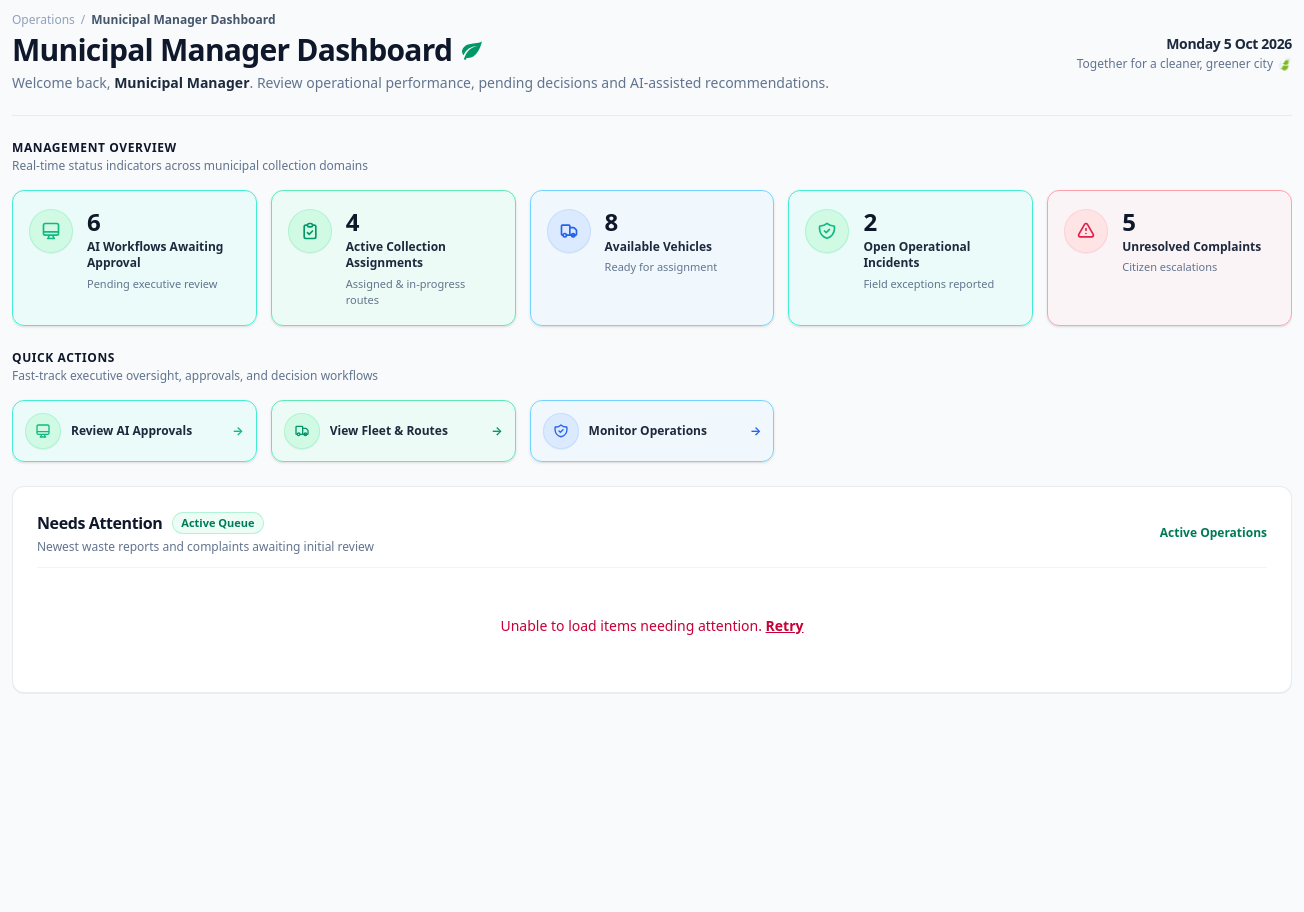
Scenario: Municipal Manager management overview › keeps overview and actions available when the manager queue fails
Expected: the text "Unable to load items needing attention." is shown, [500,616,762,635]
Expected: the text "6" is shown, [87,205,100,238]
Click the button "Retry" at (785, 626), box [766,616,804,636]
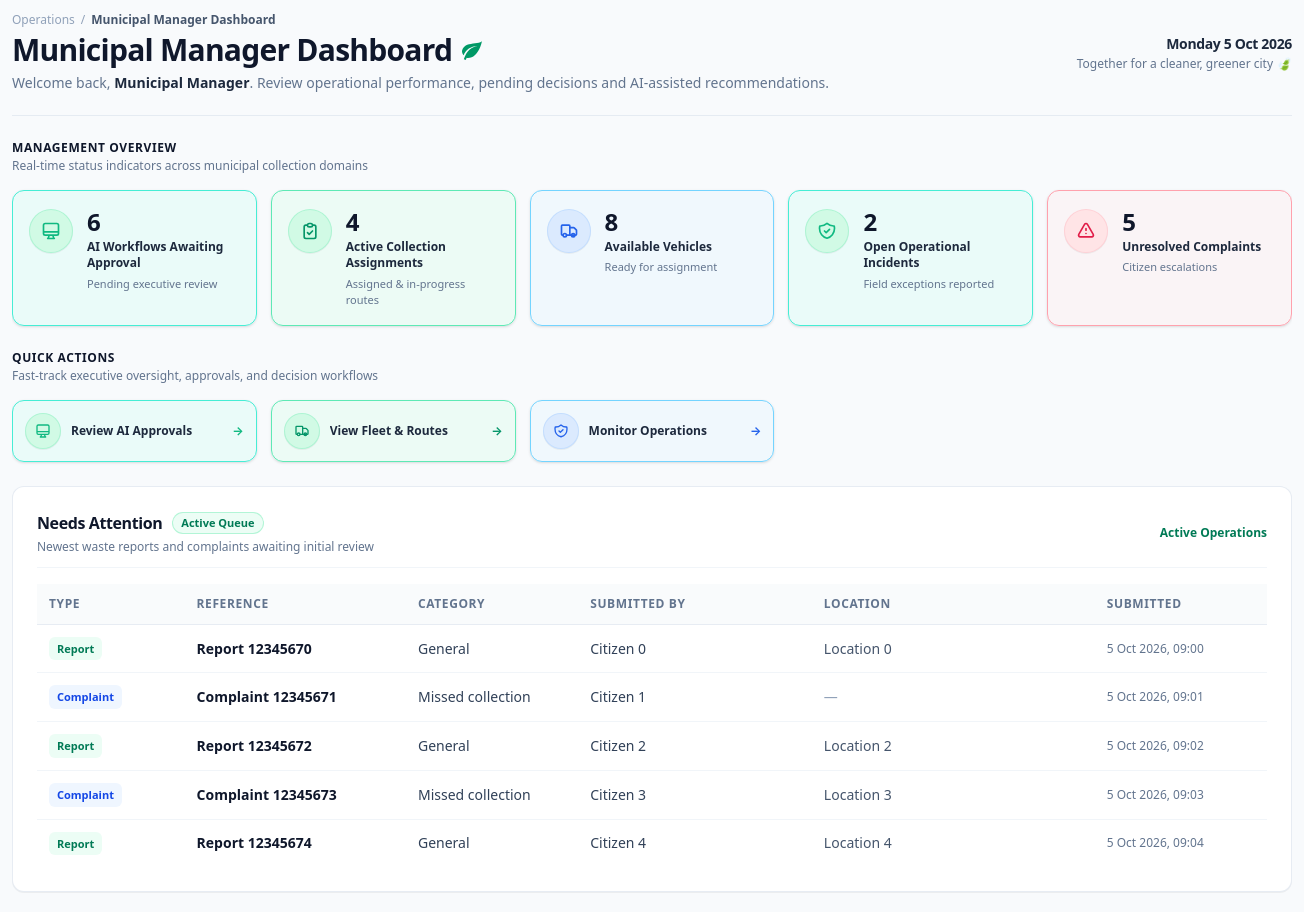
Result: the table named "Items needing initial review" is shown at [37,584,1267,867]
